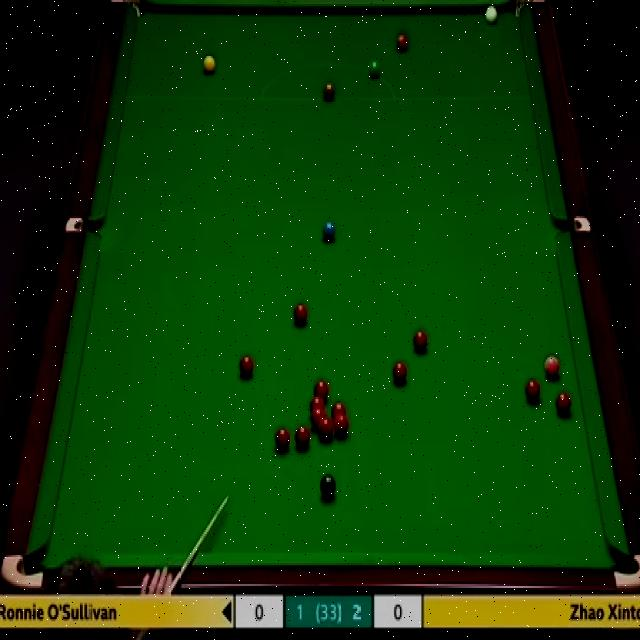black-ball: (320, 473, 336, 500)
blue-ball: (322, 220, 336, 239)
brown-ball: (322, 83, 336, 100)
green-ball: (370, 64, 384, 84)
pink-ball: (543, 355, 562, 380)
red-ball: (524, 376, 543, 404), (292, 304, 312, 329), (318, 418, 334, 443), (555, 389, 571, 414), (275, 427, 291, 450), (334, 414, 350, 436), (295, 425, 310, 448), (391, 362, 406, 384), (238, 356, 254, 376), (414, 331, 427, 352), (310, 411, 324, 430), (394, 32, 408, 51), (310, 399, 324, 416), (332, 402, 346, 419), (316, 379, 326, 402)
white-ball: (484, 4, 499, 24)
yellow-ball: (202, 54, 215, 76)
